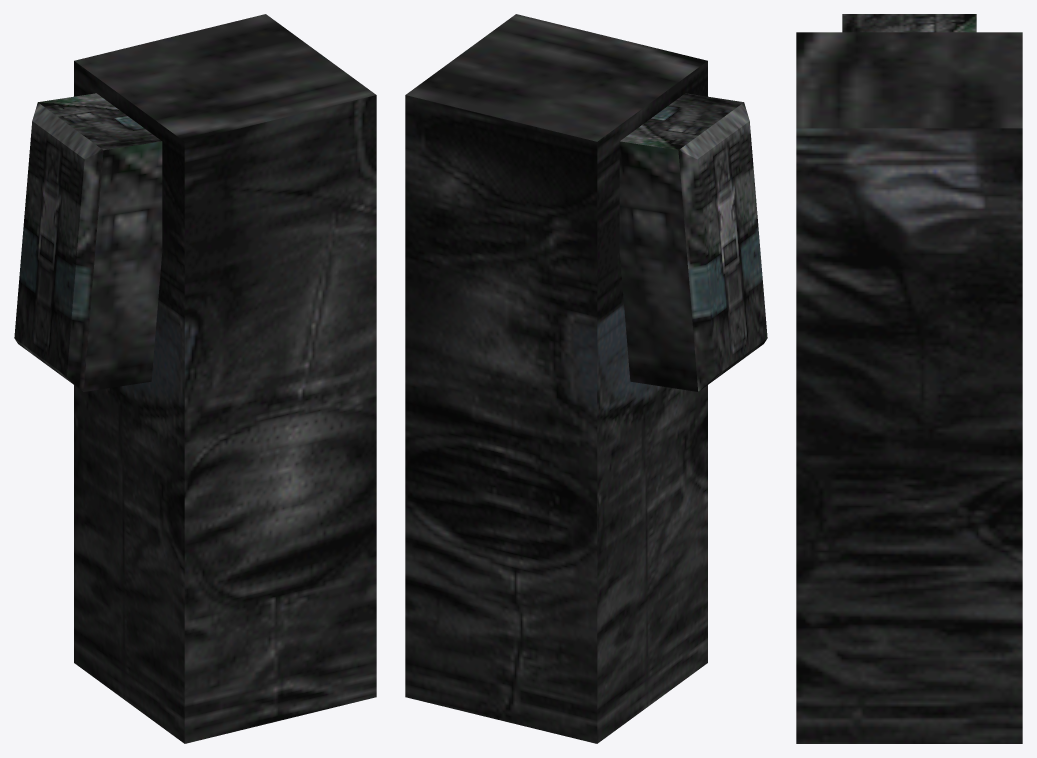
Rendered from arm_seva_leg.obj.
3 renders of one model, left to right at view 1: azimuth 30°, elevation 25°; view 2: azimuth 150°, elevation 25°; view 3: azimuth 270°, elevation 25°, orthographic. The views are drawn at different scales.
Visible parts, largest first — view 1: arm_jacket_arm_Cube.001; view 2: arm_jacket_arm_Cube.001; view 3: arm_jacket_arm_Cube.001.
Boxes of the visible parts, <box> form: arm_jacket_arm_Cube.001: <box>14,14,376,743</box>; arm_jacket_arm_Cube.001: <box>405,14,767,743</box>; arm_jacket_arm_Cube.001: <box>796,14,1022,743</box>.
Size of the model in its own units: 1.46 by 3 by 1.
